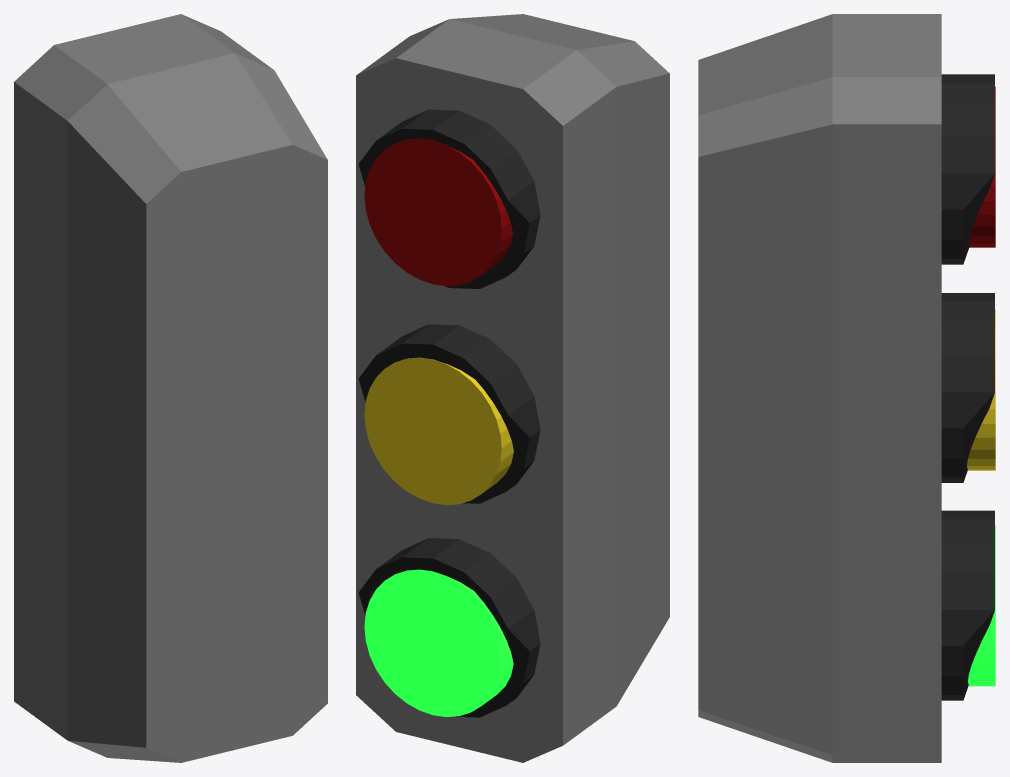
File: green.glb
3 views of the same model, side by side, from view 1: azimuth 30°, elevation 25°; view 2: azimuth 150°, elevation 25°; view 3: azimuth 270°, elevation 25° (orthographic).
Visible parts, largest first — view 1: Cube; view 2: Cube, Cylinder.001, Cylinder.004, Cylinder, Cylinder.003, Cylinder.002, Cylinder.005; view 3: Cube, Cylinder.005, Cylinder.002, Cylinder.003, Cylinder.001, Cylinder.004, Cylinder.
Part boxes in pixels (x1,y1,x2,y2): Cube: (14,14,327,762); Cube: (356,14,669,762); Cylinder.001: (364,357,513,505); Cylinder.004: (364,569,513,716); Cylinder: (364,138,512,286); Cylinder.003: (358,324,540,503); Cylinder.002: (358,538,540,717); Cylinder.005: (358,109,540,288); Cube: (698,14,941,762); Cylinder.005: (941,74,994,264); Cylinder.002: (941,510,994,700); Cylinder.003: (941,293,994,482); Cylinder.001: (967,309,995,470); Cylinder.004: (968,525,995,686); Cylinder: (969,86,995,247).
Size of the model in its own units: 2 by 6.22 by 2.44.
